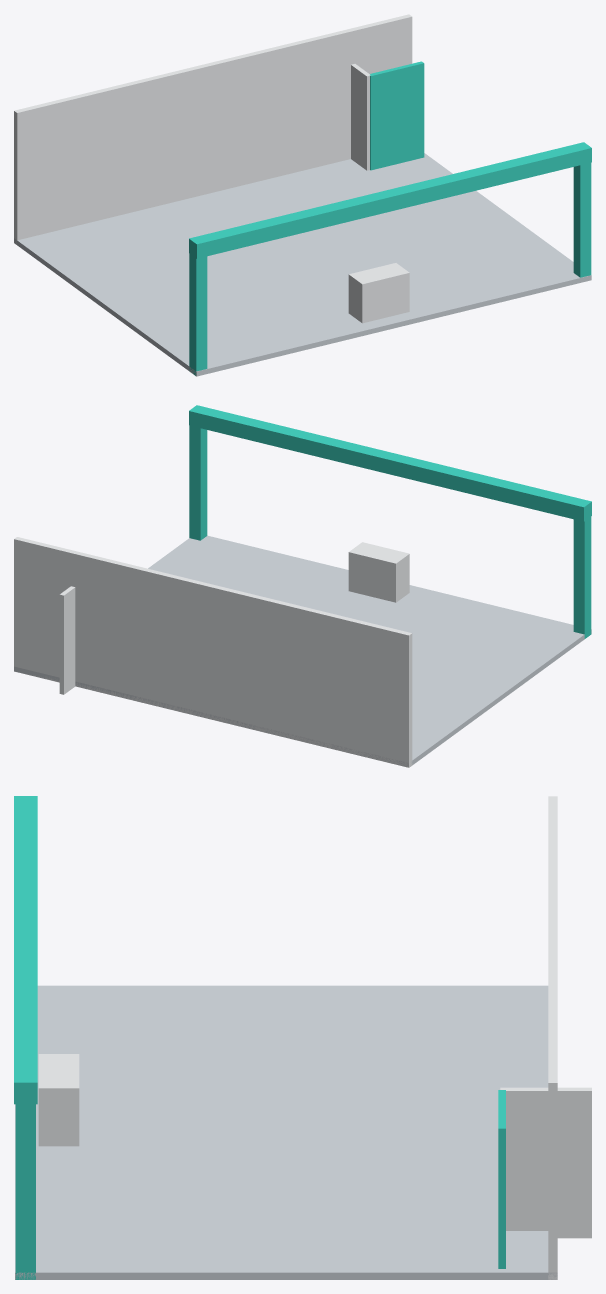
The picture shows the model from 3 angles, top to bottom: view 1: azimuth 30°, elevation 25°; view 2: azimuth 150°, elevation 25°; view 3: azimuth 270°, elevation 25°; orthographic projection. The views are drawn at different scales.
Visible parts, largest first — view 1: Exhibition Booth Concept; view 2: Exhibition Booth Concept; view 3: Exhibition Booth Concept.
Boxes of the visible parts, x1,y1,x2,y2 form: Exhibition Booth Concept: [14, 14, 591, 376]; Exhibition Booth Concept: [14, 405, 591, 767]; Exhibition Booth Concept: [14, 796, 591, 1279].
Size of the model in its own units: 10 by 3.2 by 8.52.
